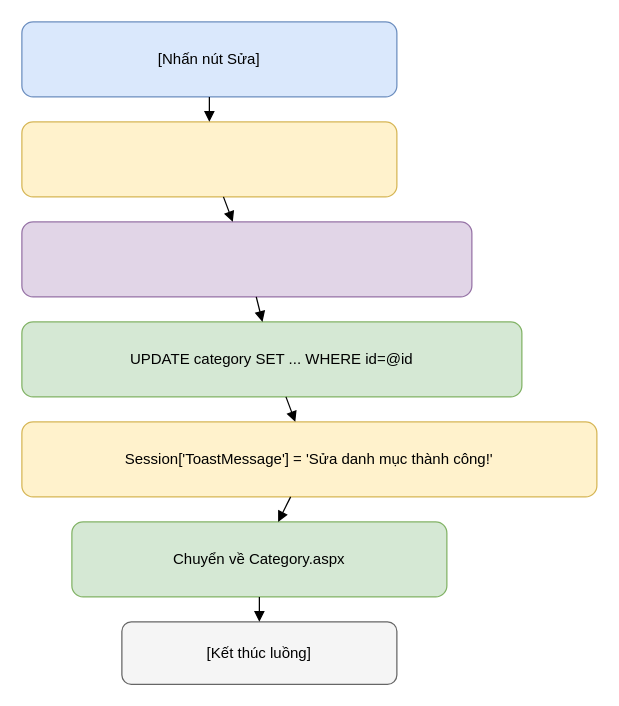
The diagram is 619 pixels wide and 706 high, and some of its shapes have lost their labels. Each missing label, with the box of its shape:
Admin sửa tên → Nhấn Cập nhật: (21, 221, 472, 297)
Load dữ liệu danh mục: (21, 121, 397, 197)
